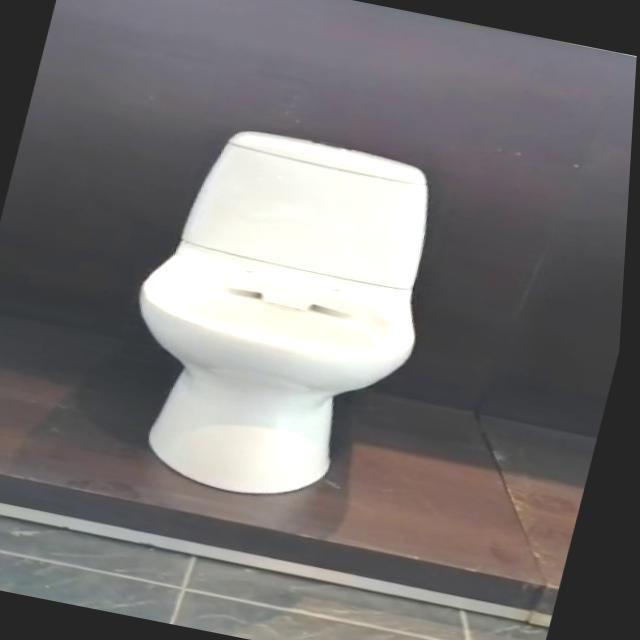toilet: (99, 114, 466, 520)
